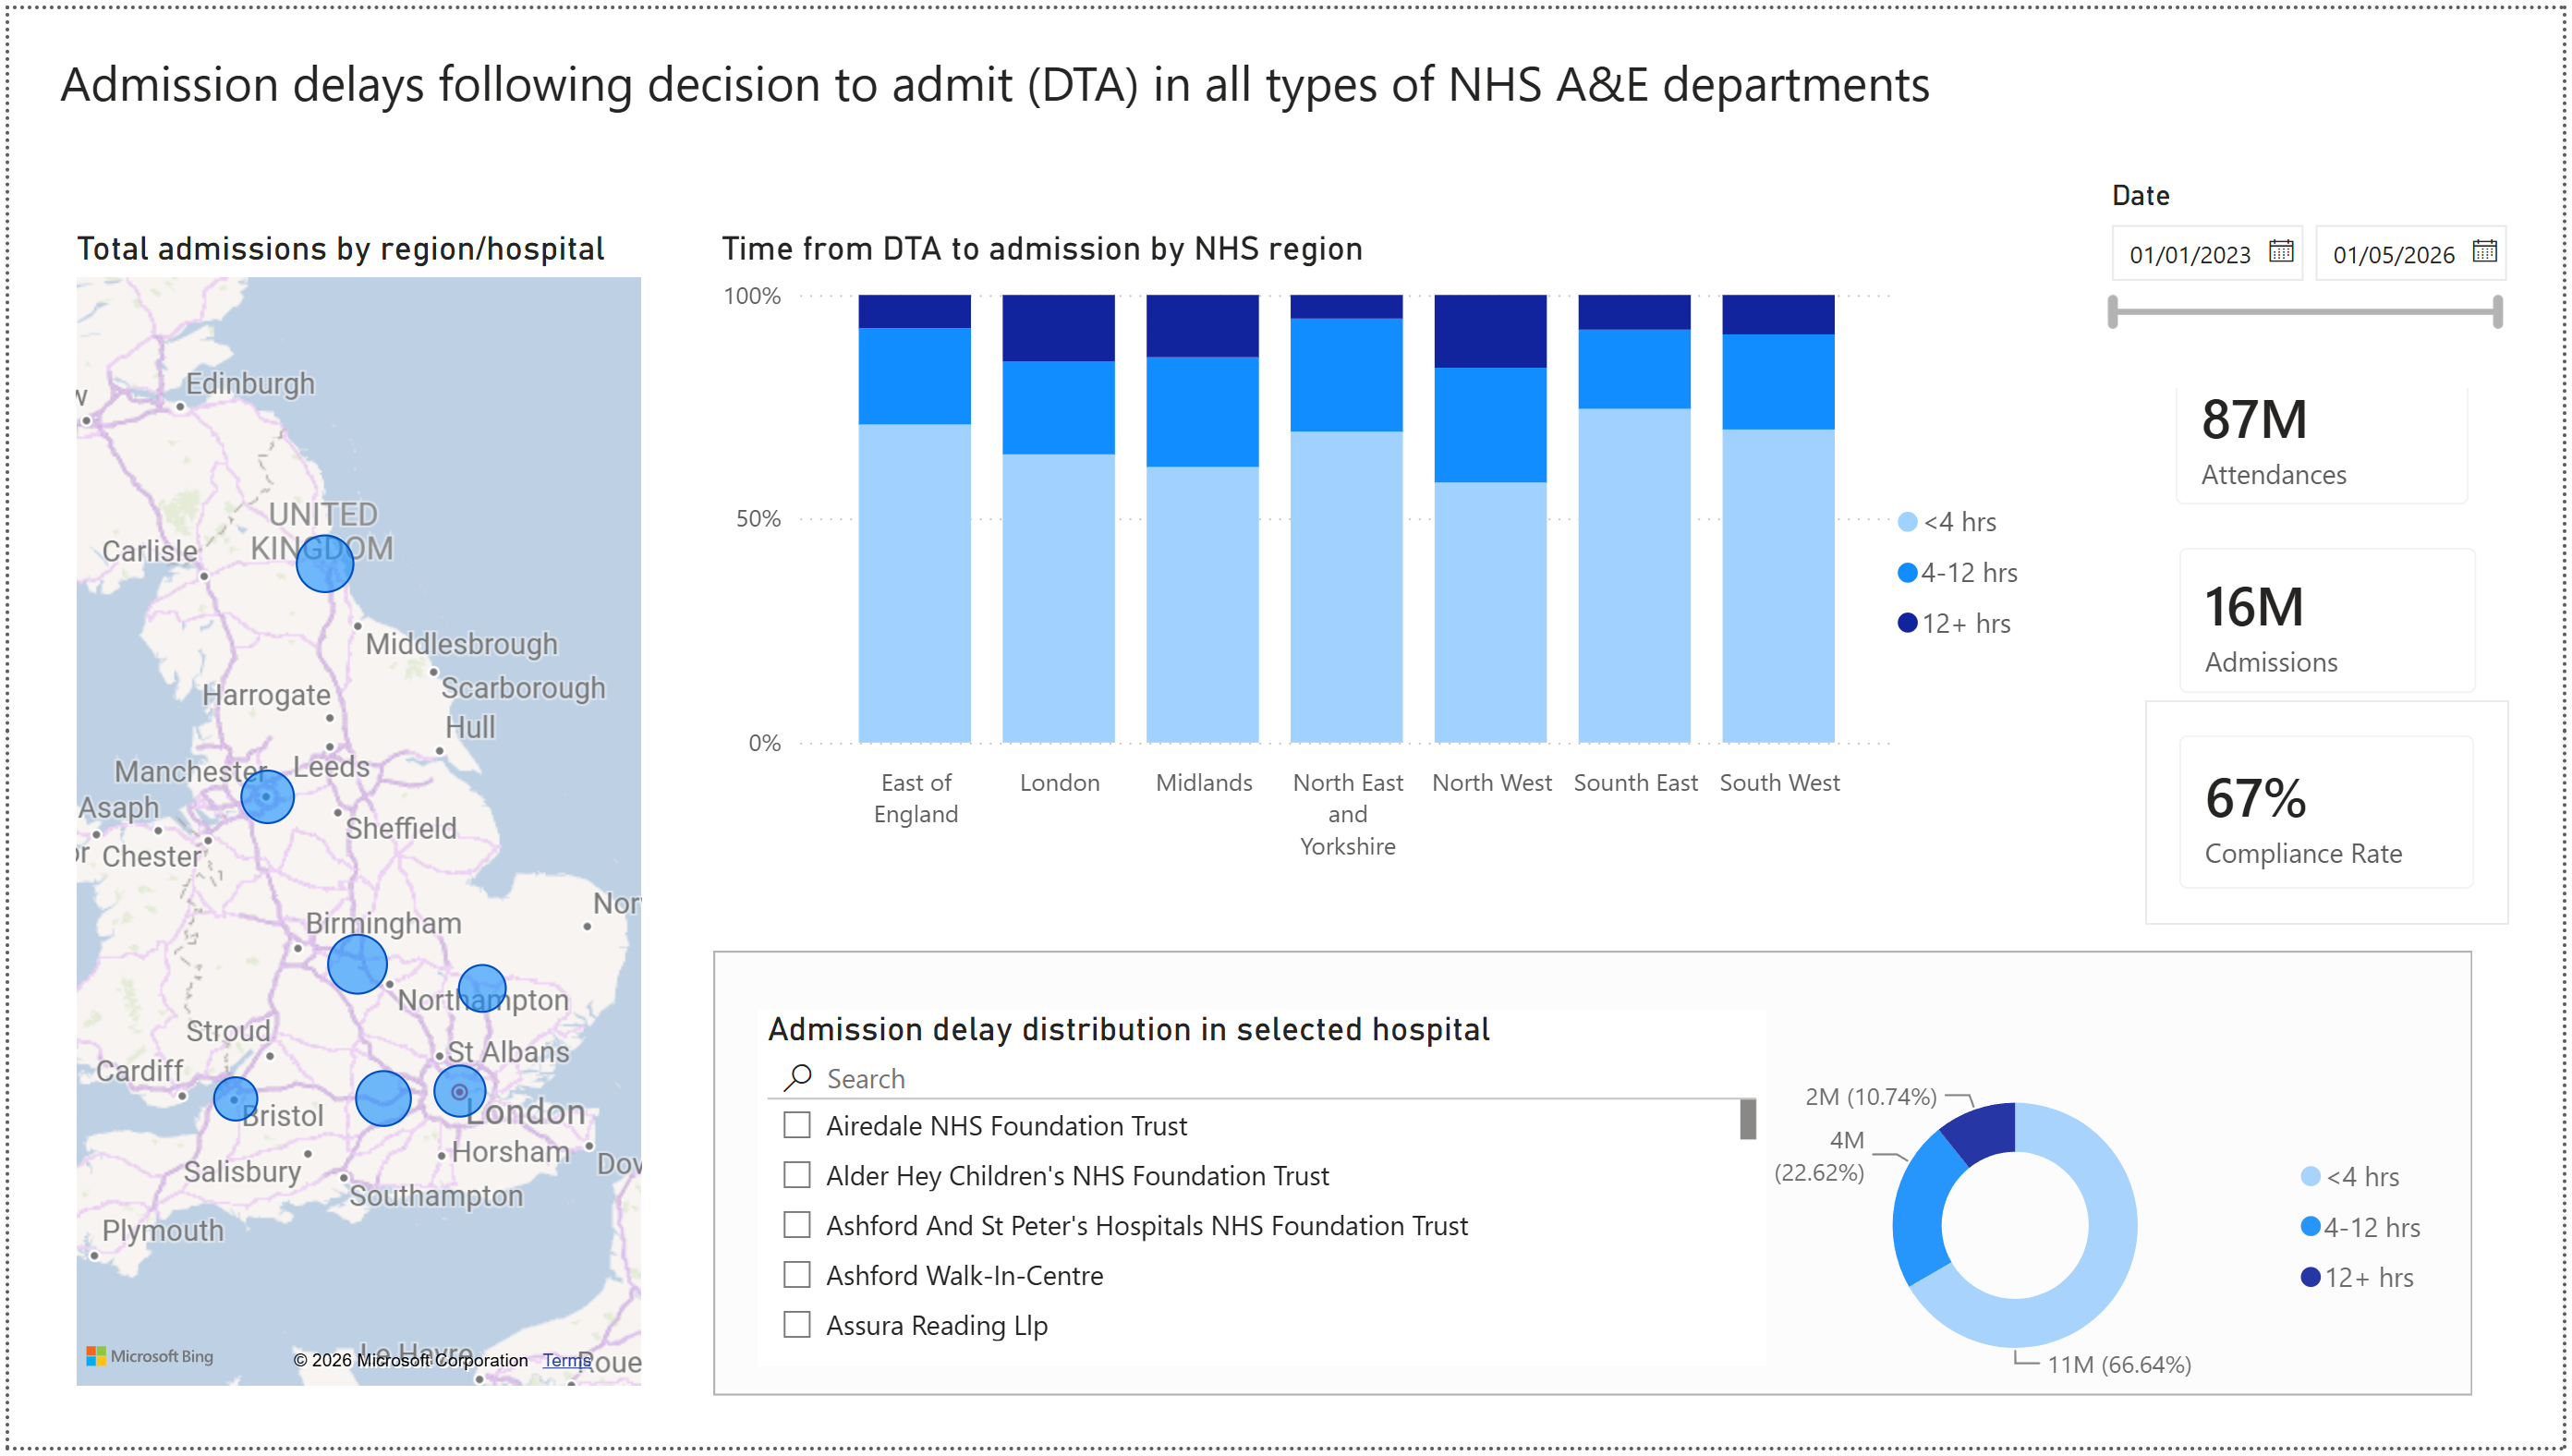

This screenshot's page, from the dashboard's own definition file:
{"tool":"powerbi","page":{"name":"DTA to Admit","canvas":[1280,720],"ordinal":1},"visuals":[{"type":"hundredPercentStackedColumnChart","title":"Time from DTA to admission by NHS region","fields":{"Y":["_Measures.Total Admissions within 4 hrs","Sum(Fact_AE_ref.4-12 hrs DTA to admission)","Sum(Fact_AE_ref.12+ hrs DTA to admission)"],"Category":["Dim_Org_ref.Short Parent Org name"]},"box":[352.3,110.2,669.3,323.9],"z":0},{"type":"donutChart","title":"Time from Decision to admit to Admission in the selected hospital","fields":{"Y":["_Measures.Total Admissions within 4 hrs","Sum(Fact_AE_ref.4-12 hrs DTA to admission)","Sum(Fact_AE_ref.12+ hrs DTA to admission)"]},"box":[858,522.7,364.8,171.6],"z":1000},{"type":"cardVisual","fields":{"Data":["_Measures.Total Attendances"]},"box":[1068.2,159.1,181.8,106.8],"z":2000},{"type":"cardVisual","fields":{"Data":["_Measures.Total Admissions"]},"box":[1070.2,252.4,183.4,107.4],"z":3000},{"type":"slicer","fields":{"Values":["Date.Date"]},"box":[1040.9,79.5,221.6,110.2],"z":4000},{"type":"shape","box":[352.7,471.3,881.7,223],"z":4500},{"type":"slicer","title":"Admission delay distribution in selected hospital","fields":{"Values":["Dim_Org_ref.Org name"]},"box":[375,501.1,505.7,178.4],"z":5000},{"type":"cardVisual","fields":{"Data":["_Measures.4hrs Compliance Rate Admissions"]},"box":[1070.2,346.6,182.4,111.5],"z":6000},{"type":"map","title":"Total admissions by region/hospital","fields":{"Size":["_Measures.Total Admissions"],"Category":["NHS Region.Region"]},"box":[28.4,110.2,293.2,584.1],"z":7000},{"type":"textbox","box":[20.8,14.5,1019.5,65.1],"z":8000}]}

Visuals, with their boxes in screenshot pixels (x1, y1, x2, y2), scaled from the page's 1280x720 canvas onto the 2572x1456 screenshot:
"Time from DTA to admission by NHS region" hundredPercentStackedColumnChart: (x1=708, y1=223, x2=2053, y2=878)
"Time from Decision to admit to Admission in the selected hospital" donutChart: (x1=1724, y1=1057, x2=2457, y2=1404)
cardVisual - _Measures.Total Attendances: (x1=2146, y1=322, x2=2512, y2=538)
cardVisual - _Measures.Total Admissions: (x1=2151, y1=510, x2=2519, y2=728)
slicer - Date.Date: (x1=2092, y1=161, x2=2537, y2=383)
shape: (x1=709, y1=953, x2=2481, y2=1404)
"Admission delay distribution in selected hospital" slicer: (x1=754, y1=1013, x2=1770, y2=1374)
cardVisual - _Measures.4hrs Compliance Rate Admissions: (x1=2151, y1=701, x2=2517, y2=927)
"Total admissions by region/hospital" map: (x1=57, y1=223, x2=646, y2=1404)
textbox: (x1=42, y1=30, x2=2091, y2=161)
